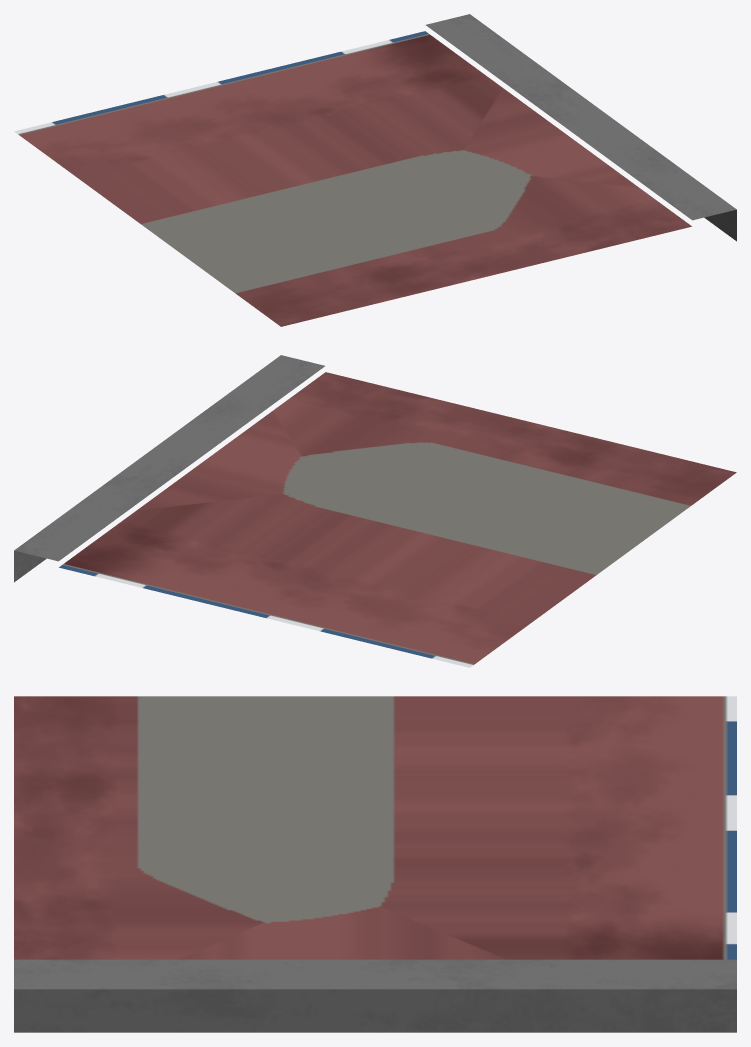
Rendered from pavement3.fbx.
The picture shows the model from 3 angles, top to bottom: view 1: azimuth 30°, elevation 25°; view 2: azimuth 150°, elevation 25°; view 3: azimuth 270°, elevation 25°; orthographic projection. The views are drawn at different scales.
Parts seen in each view (by area): view 1: 2; view 2: 2; view 3: 2.
Boxes of the visible parts, x1,y1,x2,y2 form: 2: (14, 14, 736, 326); 2: (14, 355, 736, 667); 2: (14, 696, 736, 1032).
Bounding box in the file's own units: 830 × 55.86 × 842.
